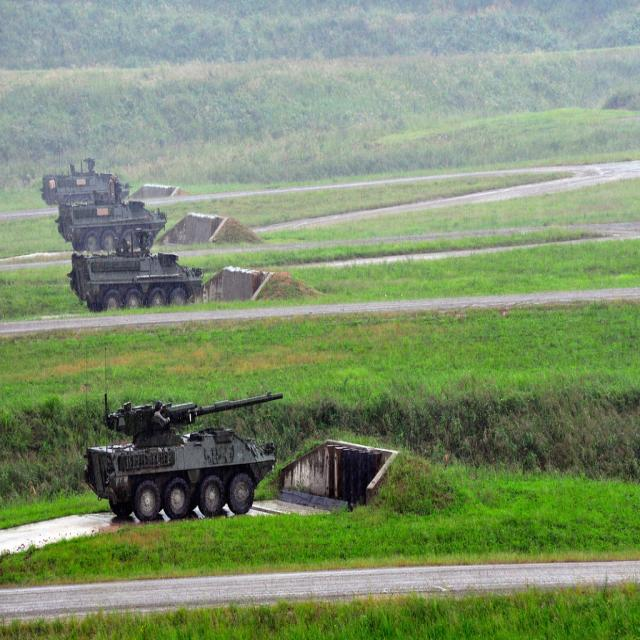tank: (84, 341, 284, 518), (68, 249, 204, 314), (54, 195, 167, 250), (39, 156, 133, 202)
